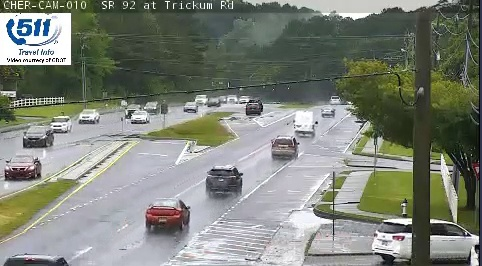car: (145, 198, 189, 227), (205, 167, 242, 192), (271, 136, 298, 158), (321, 106, 336, 117)
van: (293, 110, 313, 135)
